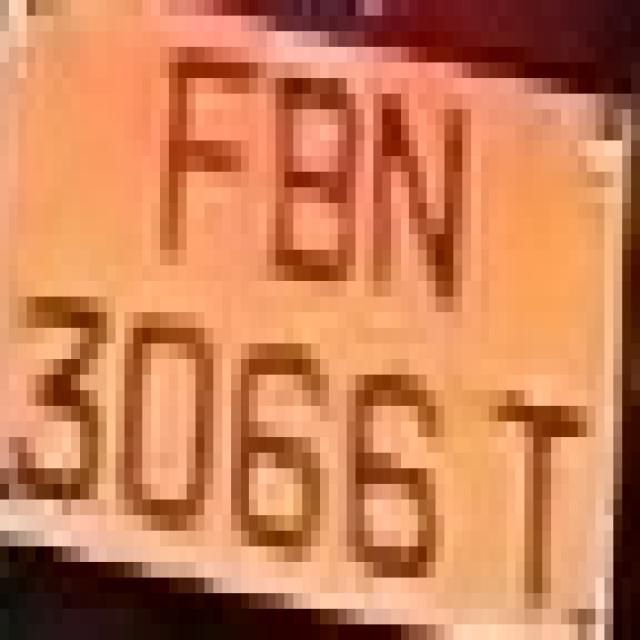0: (124, 250, 213, 562)
3: (9, 218, 115, 562)
6: (320, 281, 453, 609), (222, 297, 320, 593)
B: (258, 0, 364, 328)
F: (142, 16, 249, 312)
N: (355, 47, 489, 359)
S: (462, 312, 596, 609)
